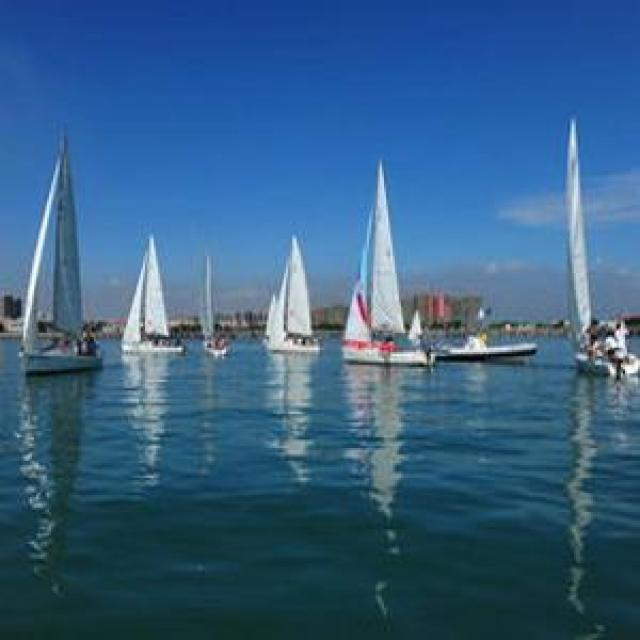houseboat: (432, 327, 539, 358)
sailboat: (560, 106, 640, 377), (20, 136, 106, 372), (340, 160, 431, 368), (124, 224, 183, 355), (262, 231, 320, 353), (194, 252, 237, 357)
